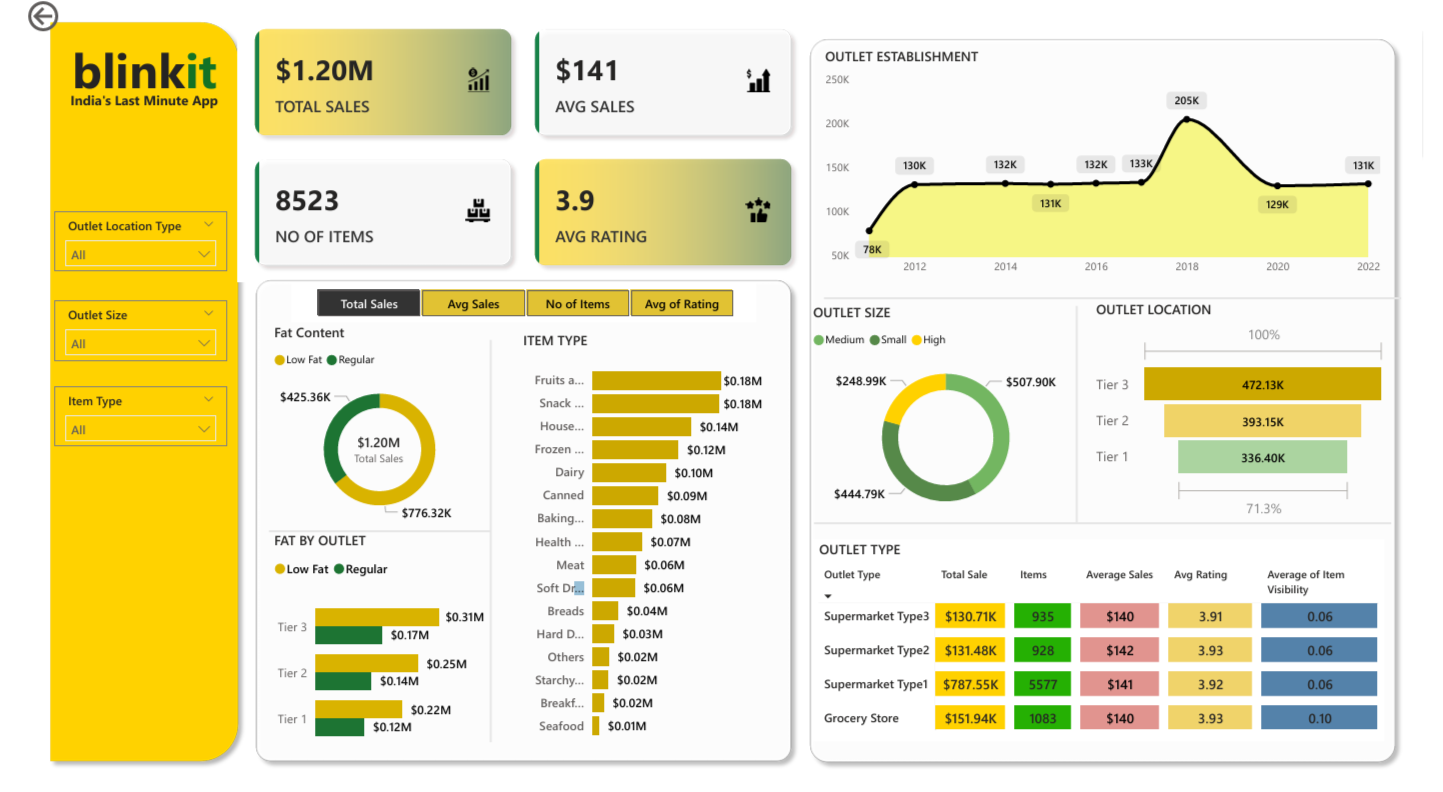

This screenshot's page, from the dashboard's own definition file:
{"tool":"powerbi","page":{"name":"Page 1","canvas":[1280,720],"ordinal":0},"visuals":[{"type":"cardVisual","fields":{"Data":["Sheet1.TOTAL SALES","Avg(Sheet1.Sales)","CountNonNull(Sheet1.Item Identifier)","Avg(Sheet1.Rating)"]},"box":[0,132.7,220,587.3],"z":0},{"type":"card","fields":{"Values":["CountNonNull(Sheet1.Item Identifier)"]},"box":[904.3,265.7,265.7,142.9],"z":1000},{"type":"shape","box":[0,0,770,140],"z":2000},{"type":"textbox","box":[41.8,15.5,256.4,90],"z":3000},{"type":"textbox","box":[41.8,83.6,270,42.7],"z":4000},{"type":"shape","box":[210,131.4,562.9,588.6],"z":5000},{"type":"slicer","fields":{"Values":["Parameter.Parameter"]},"box":[228.9,146.7,524.4,46.7],"z":6000},{"type":"donutChart","title":"Item Fat Content","fields":{"Y":["Sheet1.Total Sales"],"Category":["Sheet1.Item Fat Content"]},"box":[227.6,198.8,209.8,227.6],"z":7000},{"type":"clusteredBarChart","title":"Fat Content & Outlet Location Type","fields":{"Y":["Sheet1.Total Sales"],"Category":["Sheet1.Outlet Location Type"],"Series":["Sheet1.Item Fat Content"]},"box":[229,457.9,224.9,238.6],"z":8000},{"type":"shape","box":[765.7,0,514.3,718.6],"z":9000},{"type":"slicer","fields":{"Values":["Sheet1.Outlet Establishment Year"]},"box":[290.9,20,181.8,99.1],"z":10000},{"type":"stackedAreaChart","title":"Total Sales by Outlet Establishment Year","fields":{"Y":["Sum(Sheet1.Sales)"],"Category":["Sheet1.Outlet Establishment Year"]},"box":[790,24.3,472.9,227.1],"z":11000},{"type":"donutChart","title":"Total Sales by Outlet Size","fields":{"Category":["Sheet1.Outlet Size"],"Y":["Sum(Sheet1.Sales)"]},"box":[760,290,236.7,237.8],"z":12000},{"type":"funnel","title":"Total Sales by Outlet Location Type","fields":{"Category":["Sheet1.Outlet Location Type"],"Y":["Sum(Sheet1.Sales)"]},"box":[1002.2,290,257.8,237.8],"z":13000},{"type":"pivotTable","fields":{"Rows":["Sheet1.Outlet Type"],"Values":["Sum(Sheet1.Sales)","Avg(Sheet1.Sales)","CountNonNull(Sheet1.Item Identifier)","Avg(Sheet1.Rating)","Avg(Sheet1.Item Visibility)"]},"box":[778.8,559.4,493.6,142.6],"z":14000},{"type":"shape","box":[239.9,416.8,197.4,54.8],"z":15000},{"type":"shape","box":[338.6,209.8,213.9,468.9],"z":16000},{"type":"barChart","title":"Item Type","fields":{"Y":["Sheet1.Total Sales"],"Category":["Sheet1.Item Type"]},"box":[437.4,198.8,312.6,494.9],"z":17000},{"type":"shape","box":[795.7,255.7,455.7,21.4],"z":18000},{"type":"shape","box":[794.4,537.8,456.7,20],"z":19000},{"type":"shape","box":[890,287.8,213.3,241.1],"z":20000},{"type":"slicer","fields":{"Values":["Sheet1.Outlet Type"]},"box":[620,20,130.9,69.1],"z":21000},{"type":"slicer","fields":{"Values":["Sheet1.Outlet Size"]},"box":[480.9,20,130,69.1],"z":22000},{"type":"image","box":[145.7,162.9,47.1,47.1],"z":23000},{"type":"image","box":[145.7,307.1,47.1,44.3],"z":24000},{"type":"image","box":[149.3,451.4,40,40.7],"z":25000},{"type":"image","box":[149.1,590.9,43.6,40],"z":26000}]}

Visuals, with their boxes in screenshot pixels (x1, y1, x2, y2), scaled from the page's 1280x720 canvas onto the 1443x792 screenshot:
cardVisual - Sheet1.TOTAL SALES x Avg(Sheet1.Sales): l=0, t=146, r=248, b=791
card - CountNonNull(Sheet1.Item Identifier): l=1019, t=292, r=1319, b=449
shape: l=0, t=0, r=868, b=154
textbox: l=47, t=17, r=336, b=116
textbox: l=47, t=92, r=352, b=139
shape: l=237, t=145, r=871, b=791
slicer - Parameter.Parameter: l=258, t=161, r=849, b=213
"Item Fat Content" donutChart: l=257, t=219, r=493, b=469
"Fat Content & Outlet Location Type" clusteredBarChart: l=258, t=504, r=512, b=766
shape: l=863, t=0, r=1442, b=790
slicer - Sheet1.Outlet Establishment Year: l=328, t=22, r=533, b=131
"Total Sales by Outlet Establishment Year" stackedAreaChart: l=891, t=27, r=1424, b=277
"Total Sales by Outlet Size" donutChart: l=857, t=319, r=1124, b=581
"Total Sales by Outlet Location Type" funnel: l=1130, t=319, r=1420, b=581
pivotTable - Sheet1.Outlet Type x Sum(Sheet1.Sales): l=878, t=615, r=1434, b=772
shape: l=270, t=458, r=493, b=519
shape: l=382, t=231, r=623, b=747
"Item Type" barChart: l=493, t=219, r=846, b=763
shape: l=897, t=281, r=1411, b=305
shape: l=896, t=592, r=1410, b=614
shape: l=1003, t=317, r=1244, b=582
slicer - Sheet1.Outlet Type: l=699, t=22, r=847, b=98
slicer - Sheet1.Outlet Size: l=542, t=22, r=689, b=98
image: l=164, t=179, r=217, b=231
image: l=164, t=338, r=217, b=387
image: l=168, t=497, r=213, b=541
image: l=168, t=650, r=217, b=694
